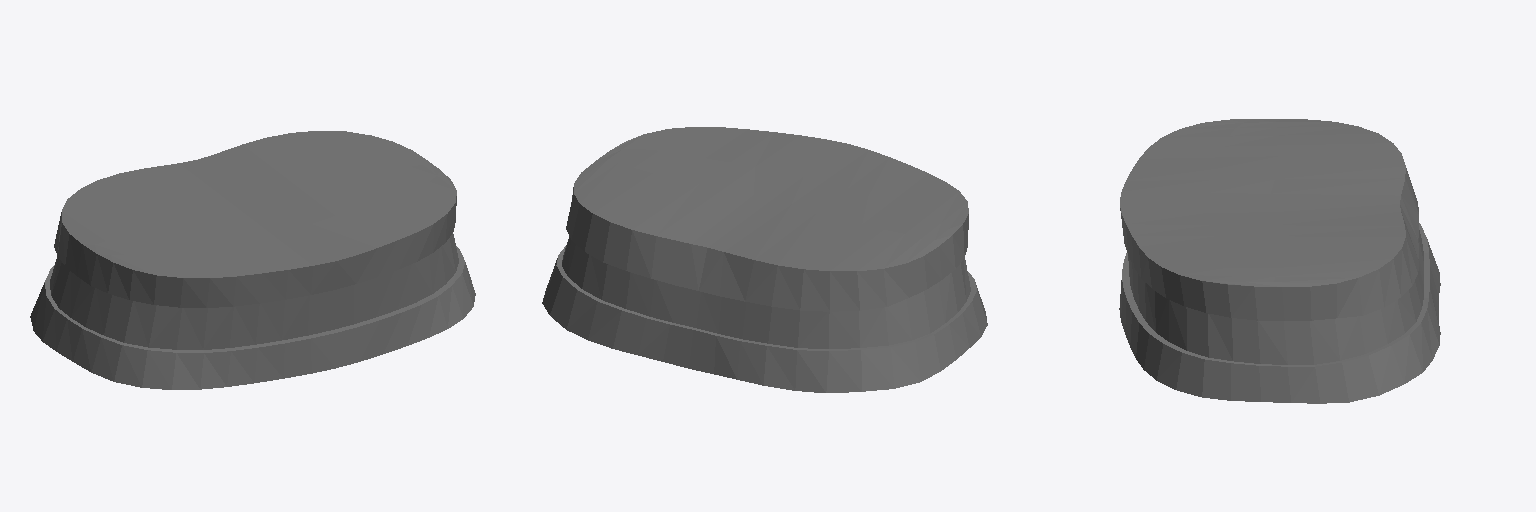
The model's file is LowPoly_Apostador_Cinto.obj.
The picture shows the model from 3 angles: view 1: azimuth 30°, elevation 25°; view 2: azimuth 150°, elevation 25°; view 3: azimuth 270°, elevation 25°; orthographic projection.
Visible parts, largest first — view 1: LowPoly_Apostador_Cinto; view 2: LowPoly_Apostador_Cinto; view 3: LowPoly_Apostador_Cinto.
Boxes of the visible parts, <box> form: LowPoly_Apostador_Cinto: <box>30,131,475,389</box>; LowPoly_Apostador_Cinto: <box>542,127,987,392</box>; LowPoly_Apostador_Cinto: <box>1119,119,1440,403</box>.
Size of the model in its own units: 30.48 by 8.26 by 21.85.